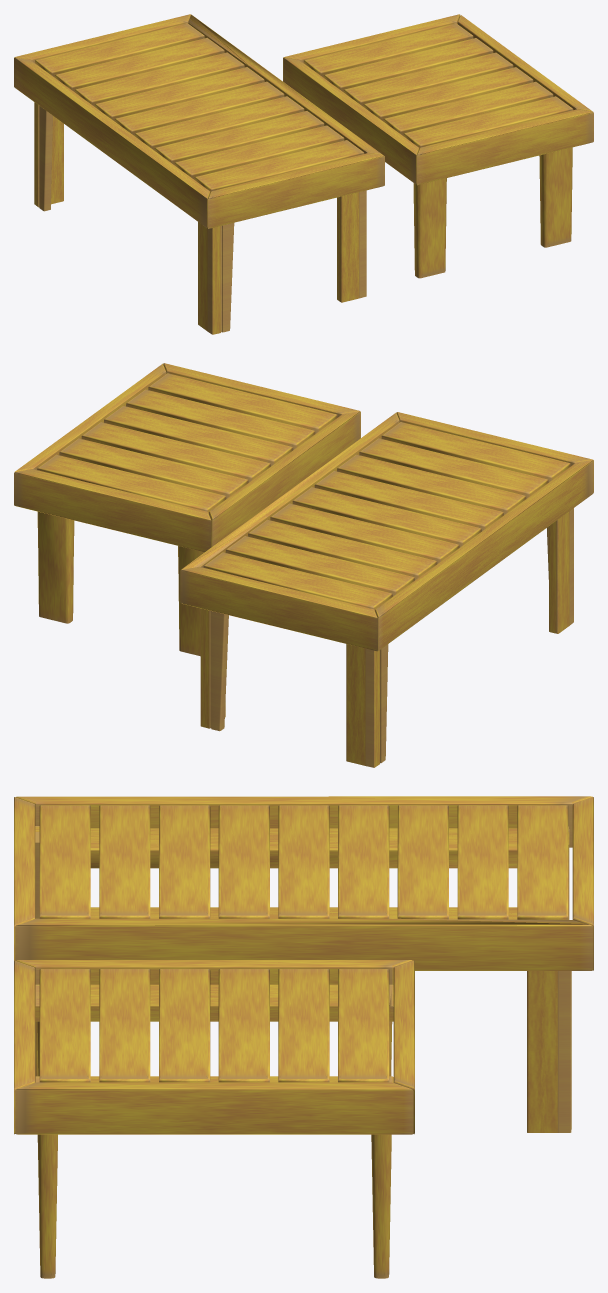
Rendered from KuuraHuonotSuihkupenkit.FBX.
The picture shows the model from 3 angles, top to bottom: view 1: azimuth 30°, elevation 25°; view 2: azimuth 150°, elevation 25°; view 3: azimuth 270°, elevation 25°; orthographic projection. The views are drawn at different scales.
Visible parts, largest first — view 1: Box028, Box019; view 2: Box028, Box019; view 3: Box028, Box019.
Part boxes in pixels (x1=…): Box028: x1=14, y1=14, x2=384, y2=334; Box019: x1=283, y1=14, x2=593, y2=278; Box028: x1=180, y1=412, x2=593, y2=767; Box019: x1=14, y1=363, x2=360, y2=656; Box028: x1=14, y1=796, x2=593, y2=1132; Box019: x1=14, y1=960, x2=414, y2=1278.
Bounding box in the file's own units: 157 × 55.72 × 136.
2 materials, 2 textured.
